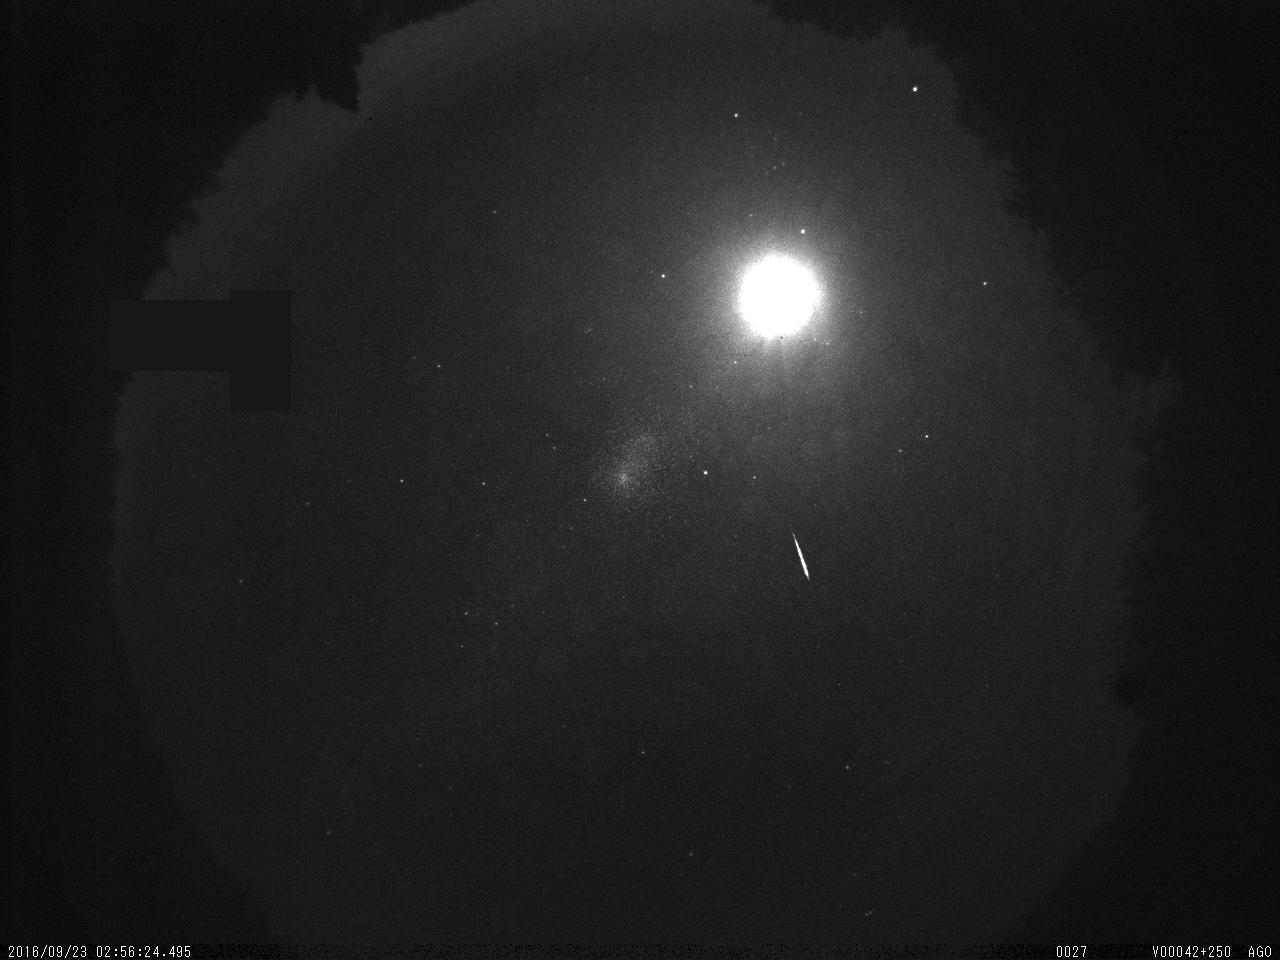Meteor: (788, 528, 816, 590)
